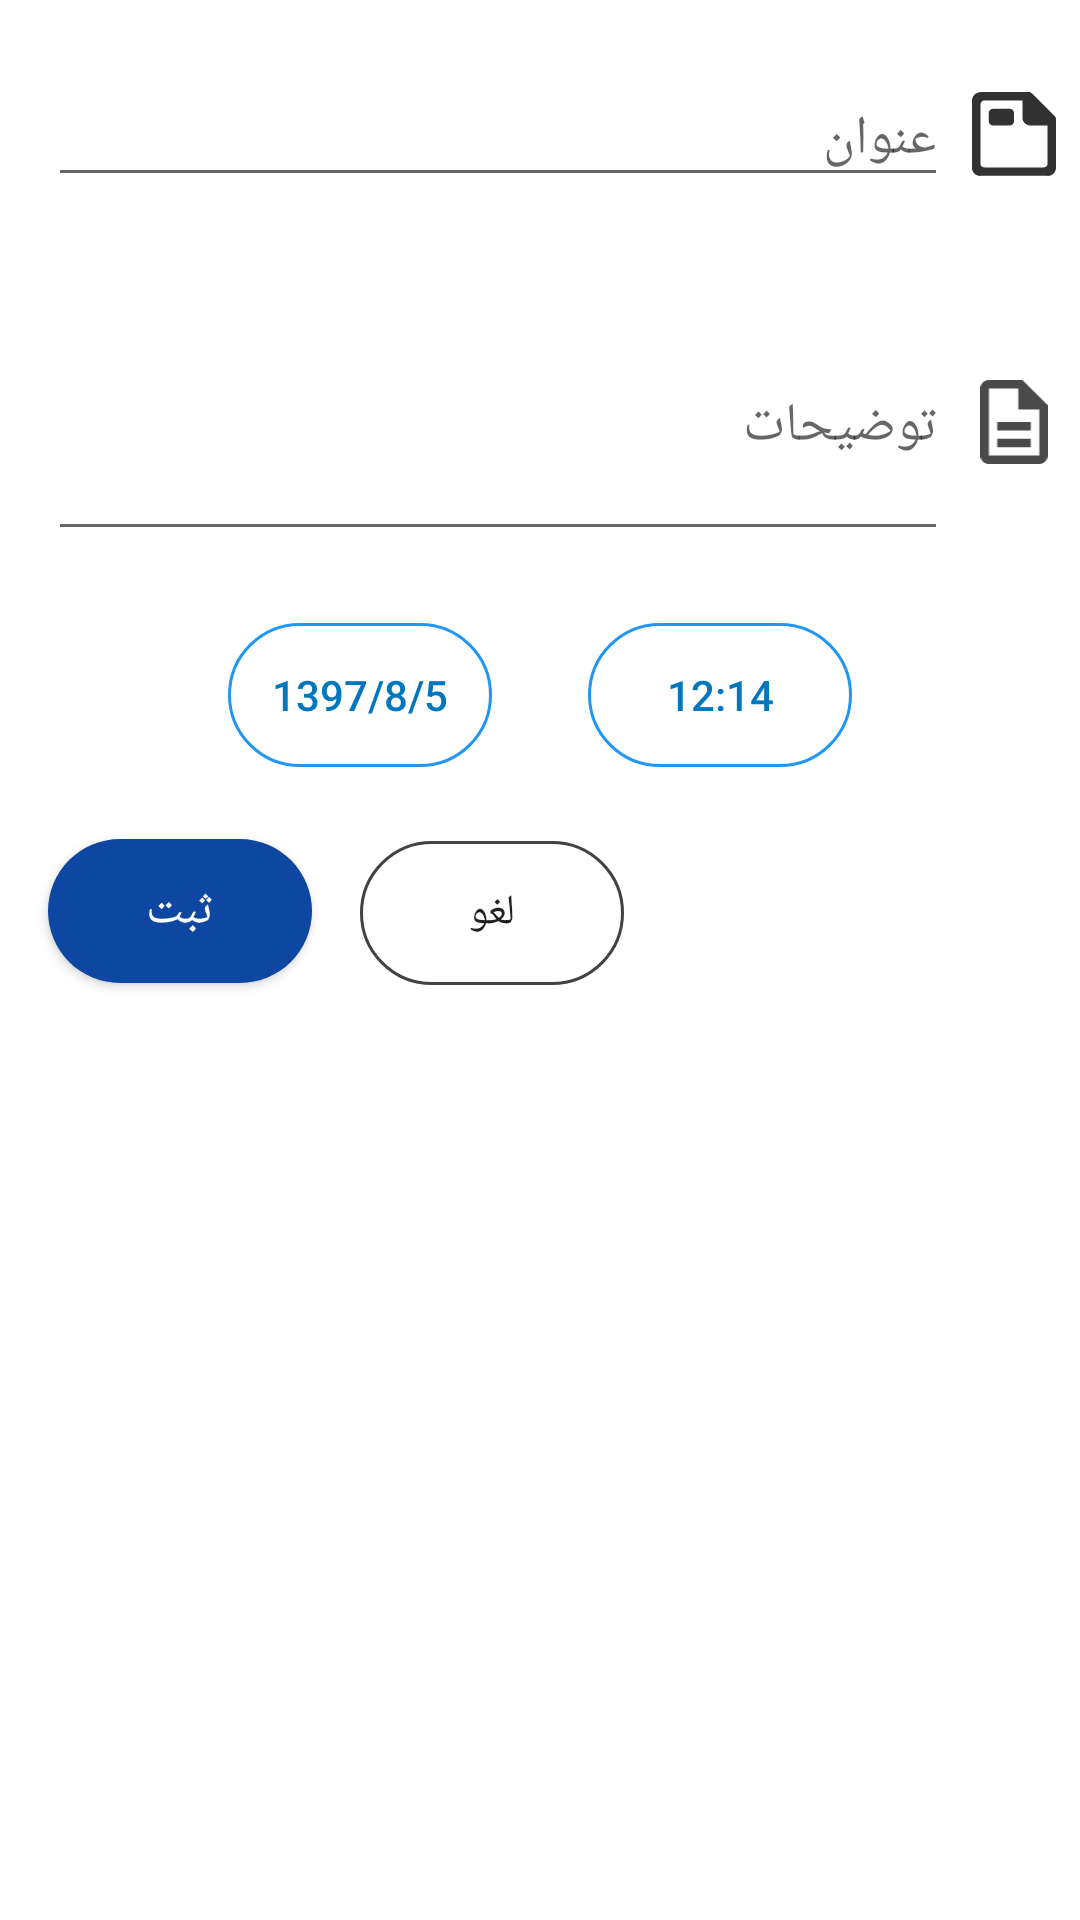

Icons on this 1080 × 1920 Android screen, each with its box as (x1, y1, x2, y2):
desc: (980, 380, 1048, 464)
